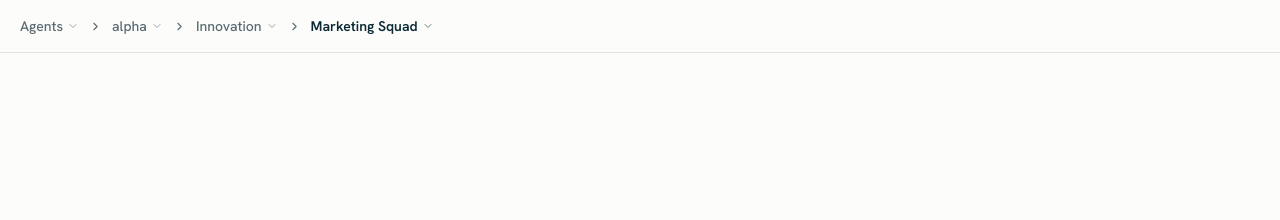
Test: Breadcrumb — changing a level › reports the chosen row and closes
Click the button "alpha".
click(137, 26)  # box [104,4,171,48]
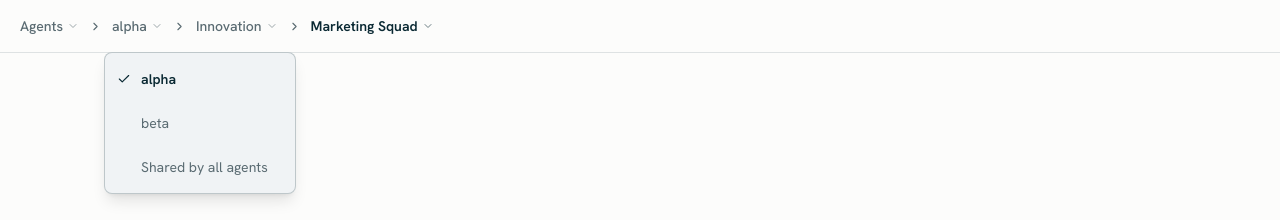
Click the menu item "beta".
click(200, 123)  # box [109,101,291,145]
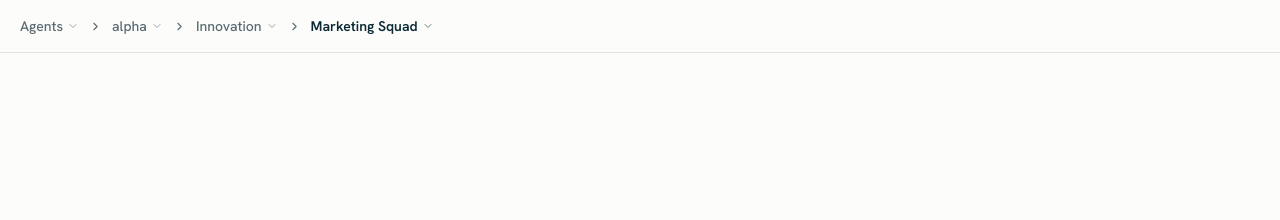
Now the menu is gone
